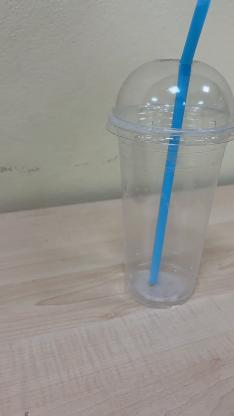Plastic Cup: (108, 58, 234, 304)
